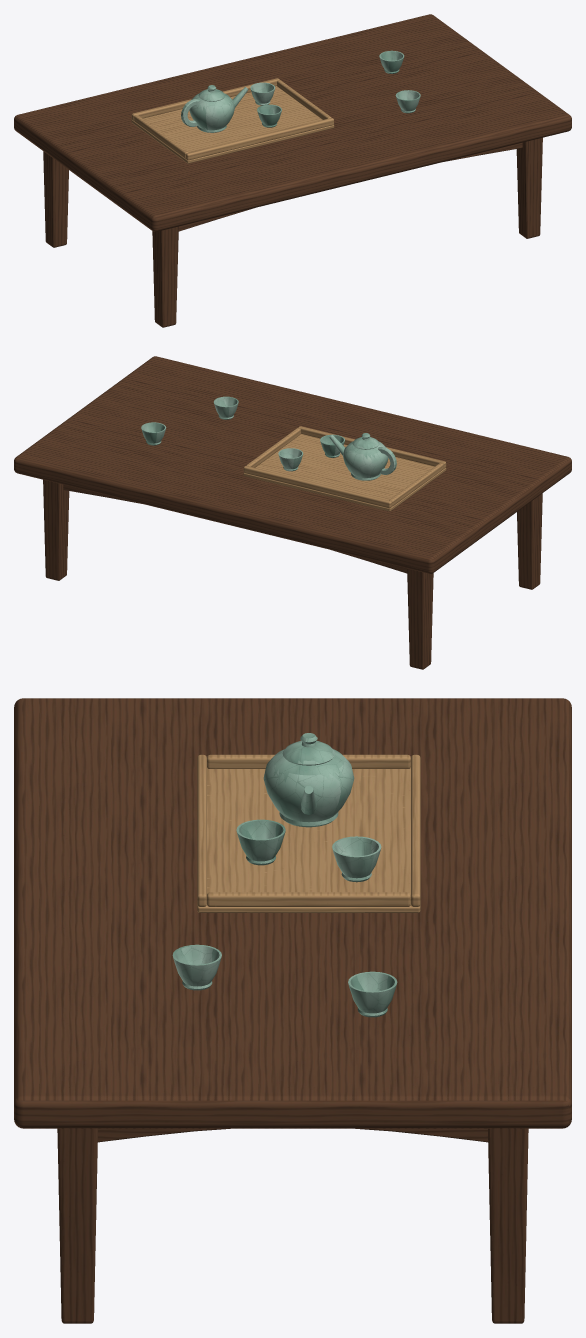
The model's file is low_tea_table.glb.
The picture shows the model from 3 angles, top to bottom: view 1: azimuth 30°, elevation 25°; view 2: azimuth 150°, elevation 25°; view 3: azimuth 270°, elevation 25°; orthographic projection. The views are drawn at different scales.
Parts seen in each view (by area): view 1: part_top_LOD0, part_tray_LOD0, part_leg_fr_LOD0, part_leg_fl_LOD0, part_leg_br_LOD0, part_teapot_LOD0, part_apron_LOD0, part_cup_1_LOD0, part_cup_3_LOD0, part_cup_2_LOD0, part_cup_4_LOD0; view 2: part_top_LOD0, part_tray_LOD0, part_leg_br_LOD0, part_leg_bl_LOD0, part_leg_fr_LOD0, part_teapot_LOD0, part_apron_LOD0, part_cup_2_LOD0, part_cup_3_LOD0, part_cup_4_LOD0; view 3: part_top_LOD0, part_tray_LOD0, part_leg_fl_LOD0, part_leg_bl_LOD0, part_teapot_LOD0, part_apron_LOD0, part_cup_1_LOD0, part_cup_2_LOD0, part_cup_3_LOD0, part_cup_4_LOD0.
Boxes of the visible parts, bbox=[...] form: part_top_LOD0: bbox=[14, 14, 571, 231]; part_tray_LOD0: bbox=[131, 78, 334, 163]; part_leg_fr_LOD0: bbox=[152, 226, 178, 327]; part_leg_fl_LOD0: bbox=[516, 137, 542, 238]; part_leg_br_LOD0: bbox=[43, 151, 68, 247]; part_teapot_LOD0: bbox=[181, 85, 248, 132]; part_apron_LOD0: bbox=[178, 142, 522, 231]; part_cup_1_LOD0: bbox=[257, 104, 281, 127]; part_cup_3_LOD0: bbox=[395, 90, 420, 113]; part_cup_2_LOD0: bbox=[250, 82, 275, 105]; part_cup_4_LOD0: bbox=[379, 50, 404, 73]; part_top_LOD0: bbox=[14, 356, 571, 573]; part_tray_LOD0: bbox=[243, 426, 446, 511]; part_leg_br_LOD0: bbox=[407, 568, 433, 669]; part_leg_bl_LOD0: bbox=[43, 479, 69, 580]; part_leg_fr_LOD0: bbox=[517, 493, 542, 589]; part_teapot_LOD0: bbox=[329, 433, 396, 480]; part_apron_LOD0: bbox=[63, 484, 407, 573]; part_cup_2_LOD0: bbox=[278, 448, 303, 471]; part_cup_3_LOD0: bbox=[213, 396, 238, 419]; part_cup_4_LOD0: bbox=[141, 422, 166, 445]; part_top_LOD0: bbox=[14, 698, 571, 1128]; part_tray_LOD0: bbox=[197, 754, 420, 912]; part_leg_fl_LOD0: bbox=[57, 1128, 97, 1323]; part_leg_bl_LOD0: bbox=[488, 1128, 528, 1323]; part_teapot_LOD0: bbox=[263, 733, 354, 827]; part_apron_LOD0: bbox=[98, 1128, 487, 1142]; part_cup_1_LOD0: bbox=[236, 819, 285, 865]; part_cup_2_LOD0: bbox=[332, 836, 381, 882]; part_cup_3_LOD0: bbox=[172, 944, 221, 990]; part_cup_4_LOD0: bbox=[348, 971, 397, 1017].
Size of what is drawn, in the model's own units: 1.2 by 0.462 by 0.7.
5 materials, 5 textured.
